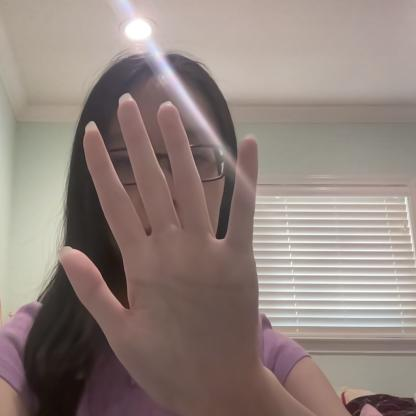palm: (53, 89, 266, 370)
